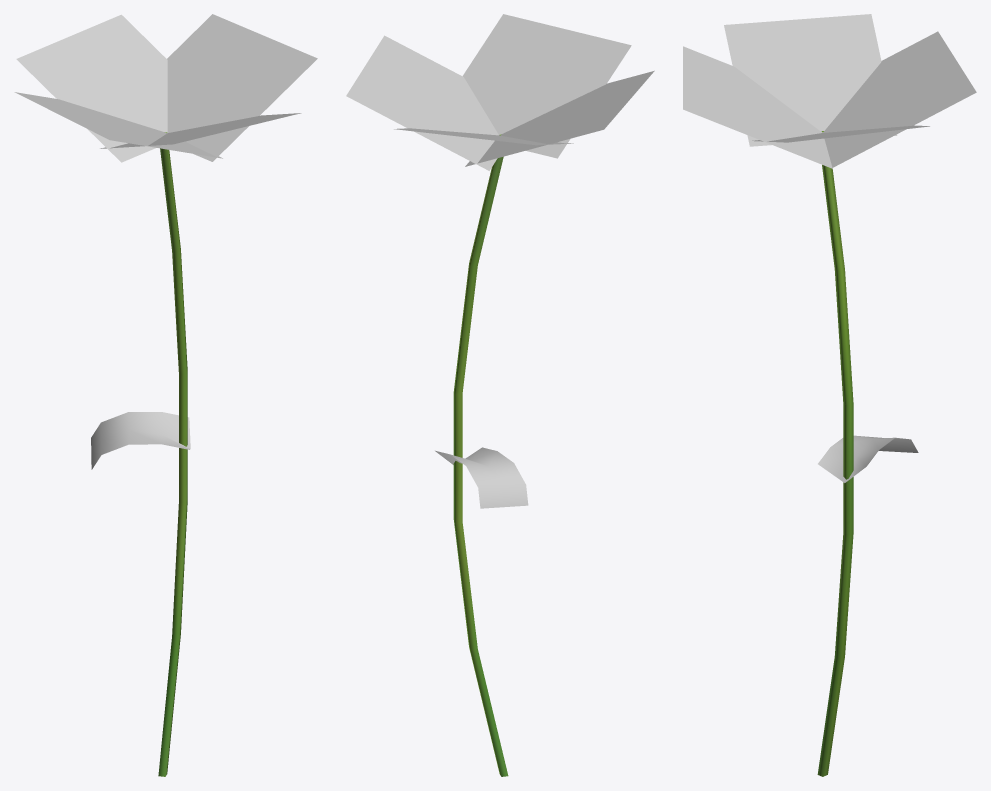
File: SM_flower_10.fbx
3 renders of one model, left to right at view 1: azimuth 30°, elevation 25°; view 2: azimuth 150°, elevation 25°; view 3: azimuth 270°, elevation 25°, orthographic.
Parts seen in each view (by area): view 1: SM_flower_10; view 2: SM_flower_10; view 3: SM_flower_10.
Boxes of the visible parts, <box> form: SM_flower_10: <box>14,14,317,776</box>; SM_flower_10: <box>346,14,654,776</box>; SM_flower_10: <box>683,14,976,776</box>.
Bounding box in the file's own units: 22.99 × 58.3 × 22.18.
